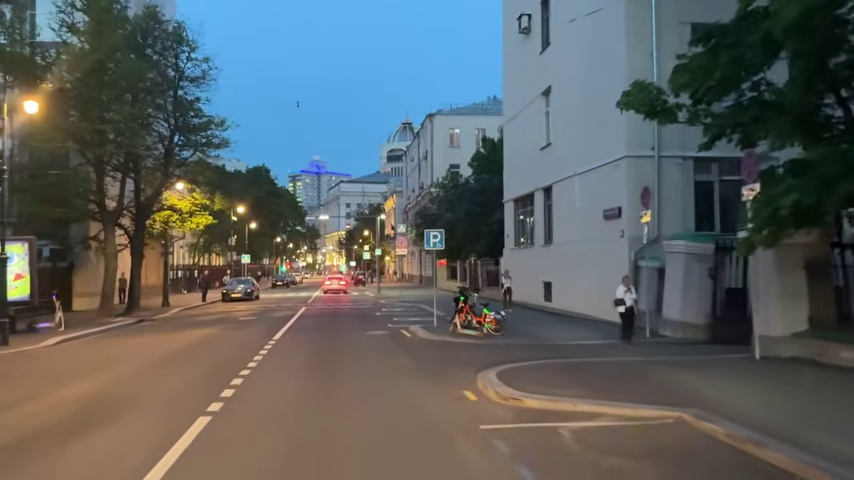acesa: (16, 93, 47, 123), (234, 203, 250, 218)
apagada: (536, 83, 555, 103)
